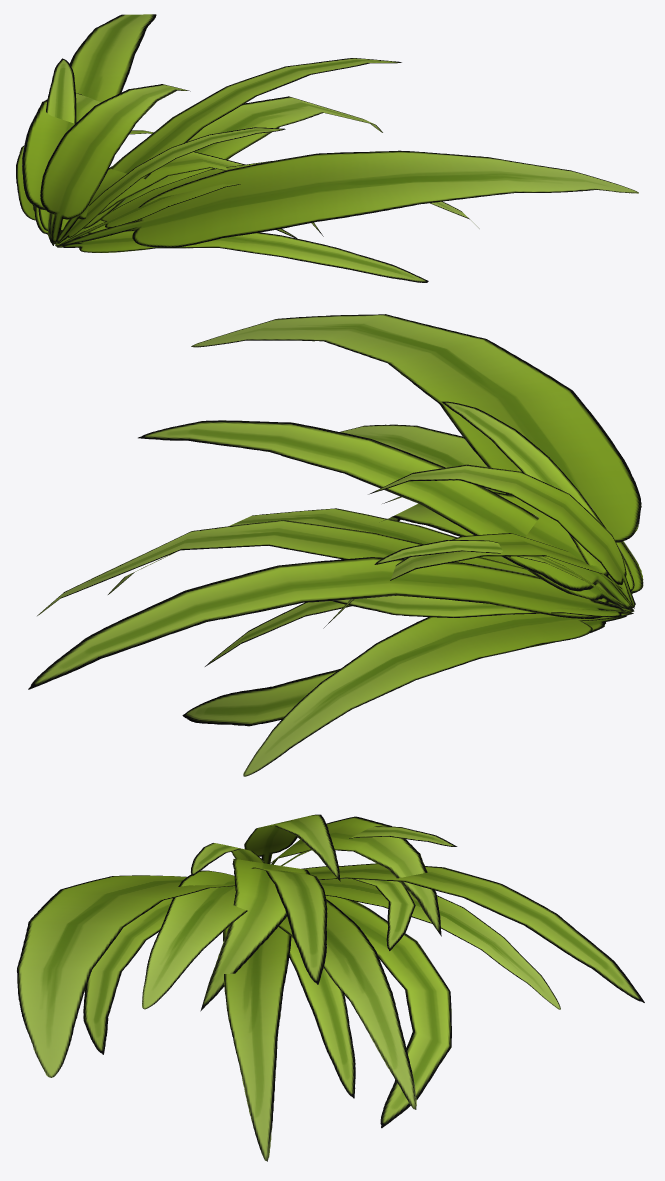
File: Moonset_FBX_foliage_wall_01.fbx
The picture shows the model from 3 angles, top to bottom: view 1: azimuth 30°, elevation 25°; view 2: azimuth 150°, elevation 25°; view 3: azimuth 270°, elevation 25°; orthographic projection. The views are drawn at different scales.
Visible parts, largest first — view 1: Foliage_wall; view 2: Foliage_wall; view 3: Foliage_wall.
Part boxes in pixels (left/top/right/bottom): Foliage_wall: left=16, top=14, right=638, bottom=282; Foliage_wall: left=28, top=314, right=643, bottom=776; Foliage_wall: left=17, top=814, right=644, bottom=1161.
Bounding box in the file's own units: 1.6 × 0.6846 × 1.87.
